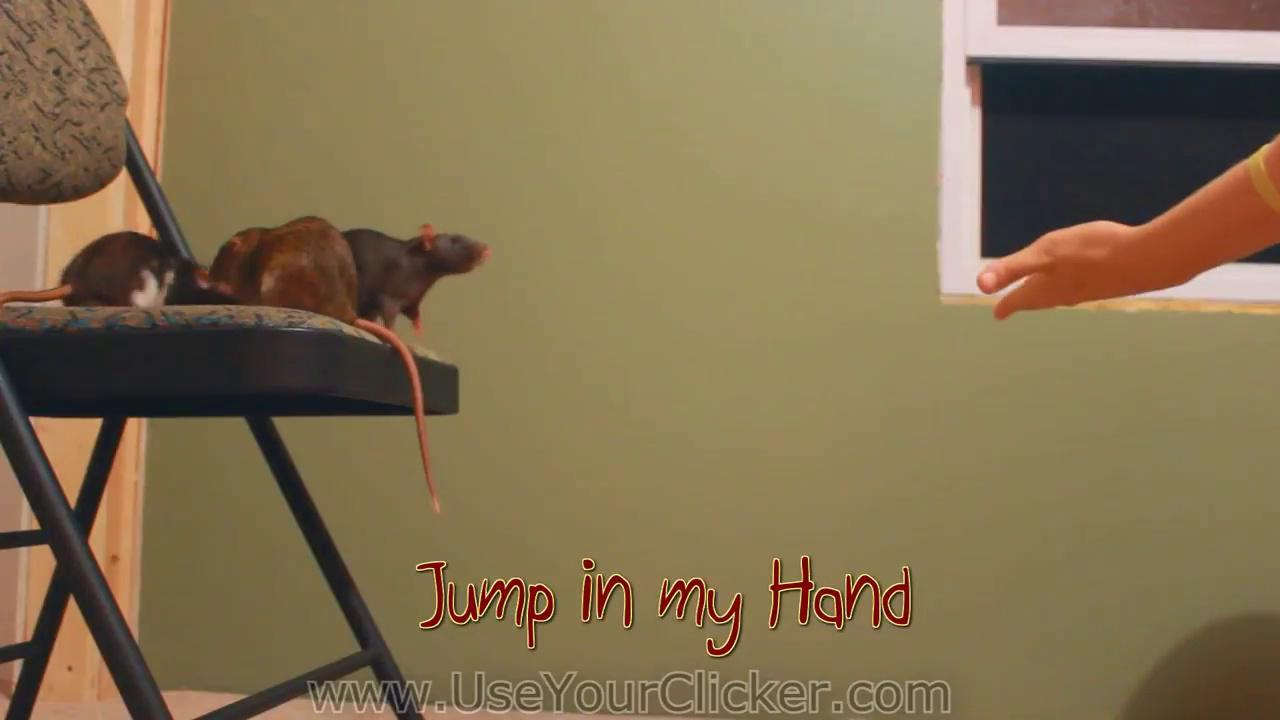rat: (208, 214, 445, 515), (343, 222, 486, 334), (0, 230, 205, 308)
